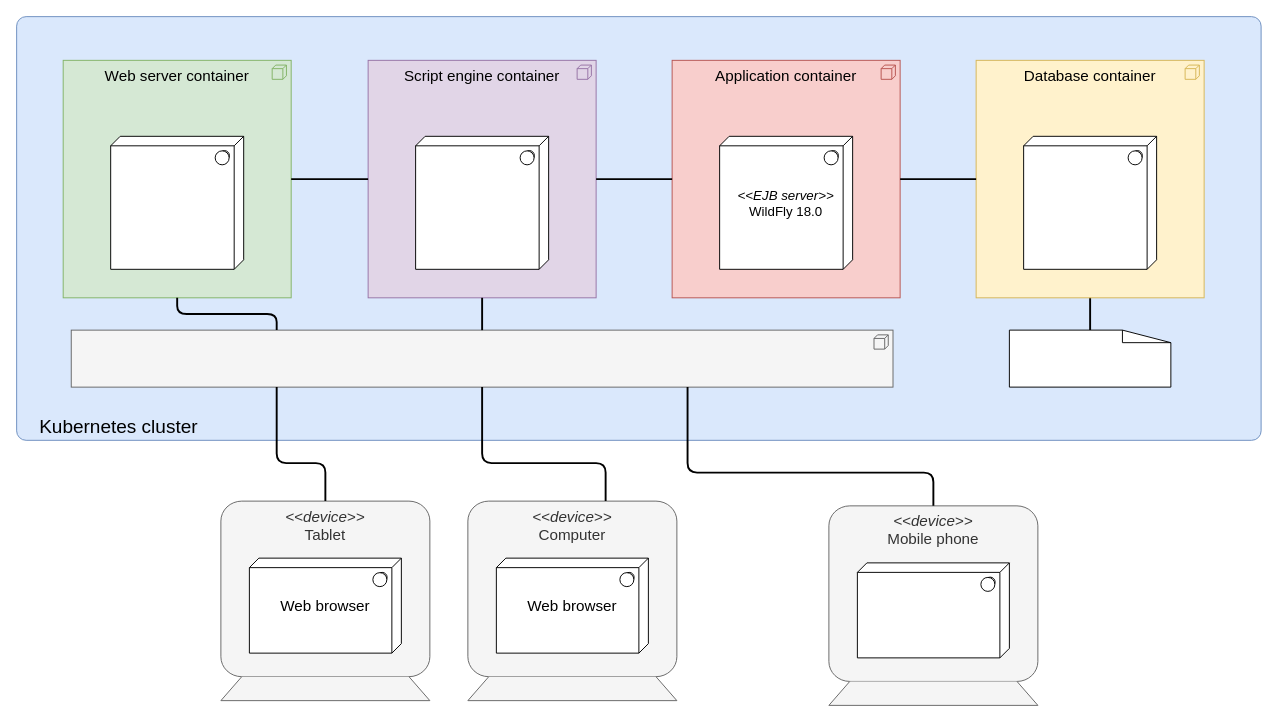
This 1278x722 diagram has some shape labels left out. The centre of each missing label's shape, as x and y in pixels:
<<DBMS server>> MySQL Server Enterprise: the point at 1090,202
<<Servlet server>> Tomcat 9.0: the point at 482,202
<<web server>> Apache HTTP 2.4: the point at 177,202
Application: the point at 932,610
Database volume: the point at 1089,358
Network firewall: the point at 481,358
